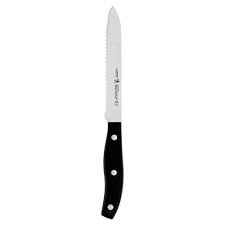knife: (102, 4, 124, 220)
